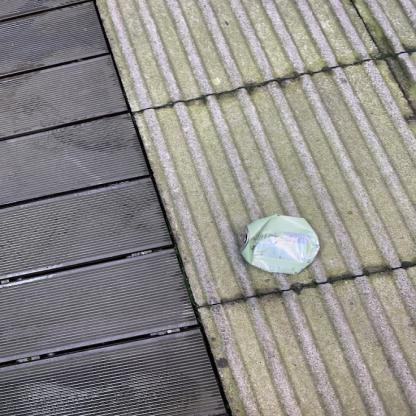trash: (241, 211, 320, 273)
